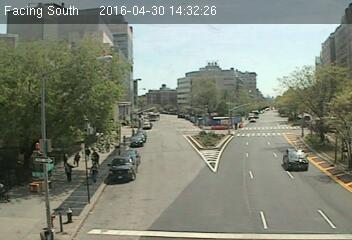neg: (157, 17, 170, 35), (196, 66, 209, 84), (103, 86, 115, 102), (207, 131, 218, 146), (55, 51, 66, 66), (108, 14, 118, 28), (142, 100, 152, 113), (87, 56, 97, 69), (158, 100, 167, 112), (131, 99, 140, 111), (72, 24, 81, 36), (227, 83, 236, 95), (183, 110, 191, 120), (243, 111, 251, 121), (197, 146, 204, 156)
pos: (56, 161, 76, 188), (85, 162, 103, 186), (89, 146, 102, 164), (71, 150, 82, 165), (60, 151, 71, 165), (129, 127, 136, 136)
